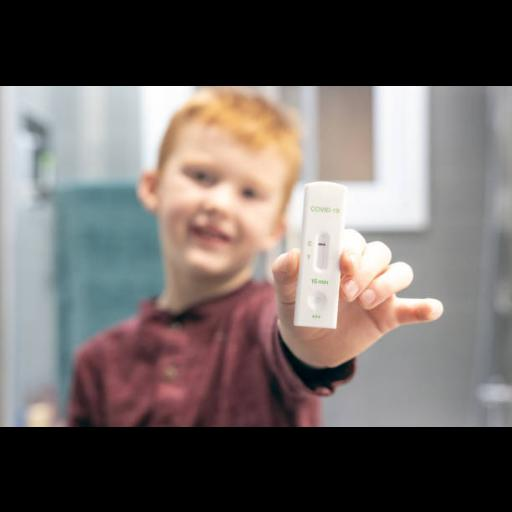Neg: (295, 180, 348, 328)
